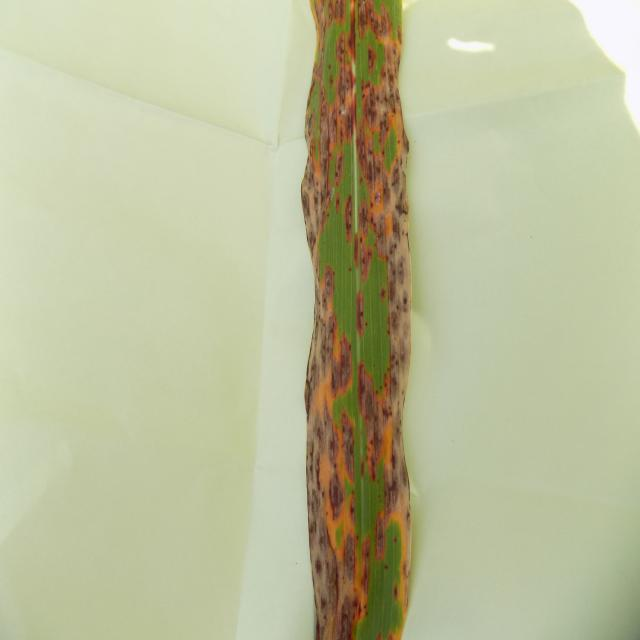millet_rust: (298, 3, 421, 640)
